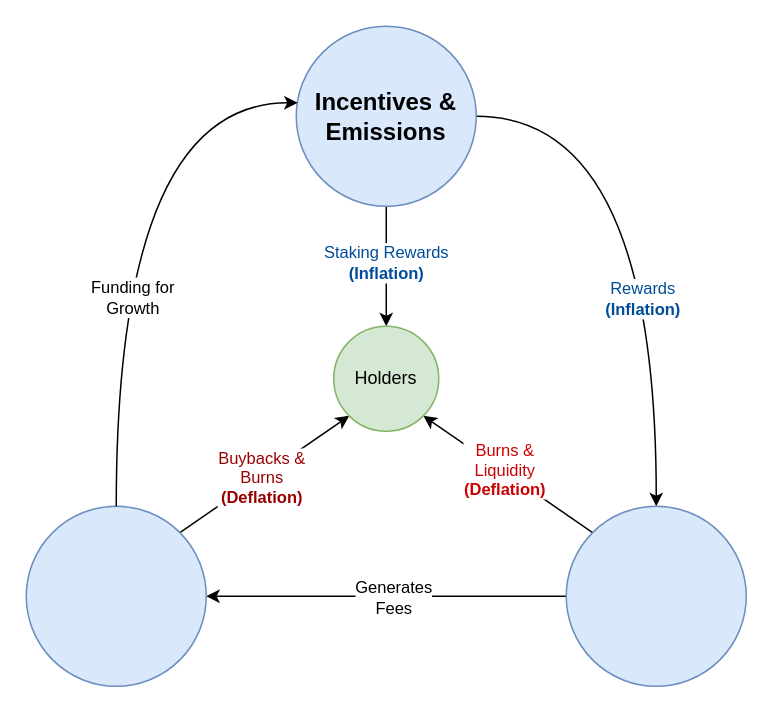
Some shapes in this 773 by 713 pixel diagram are drawn without their labels. Here are the shapes that lost their labels. From the top down, the centre of each, then its label:
At point (115, 595): "Revenue".
At point (655, 595): "Liquidity & Tax Volume".
